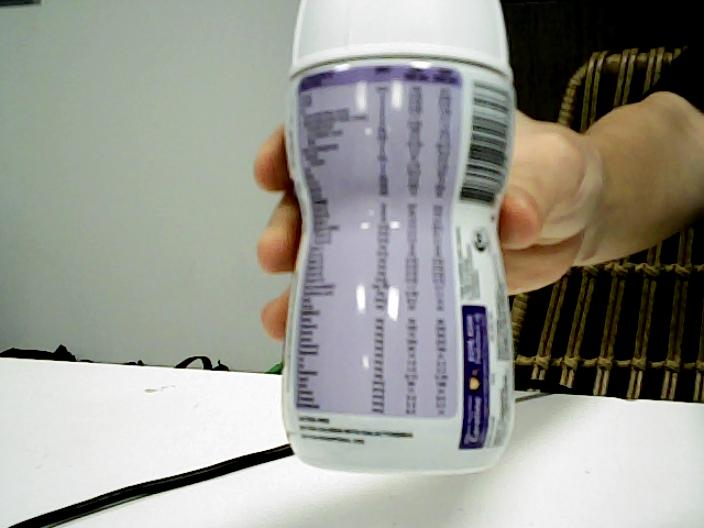Babyfood_200-299g_Halal_NonHealthy: (293, 1, 512, 472)
